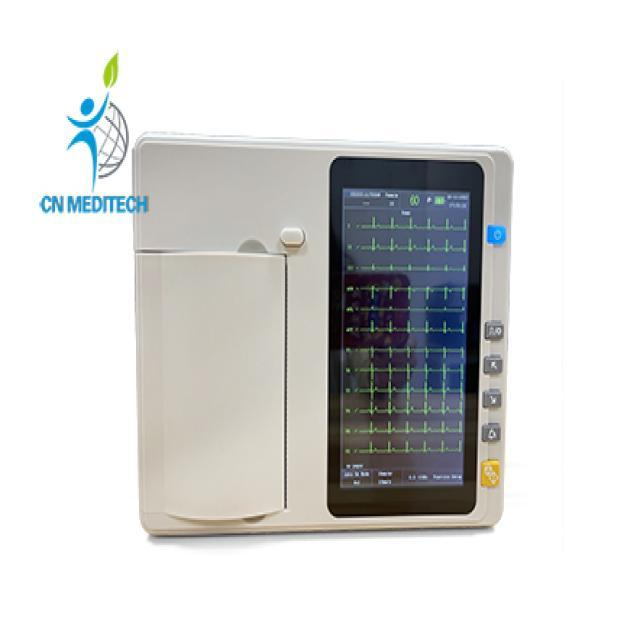Monitor: (132, 130, 512, 536)
